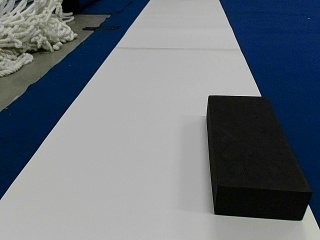block: (208, 95, 311, 221)
